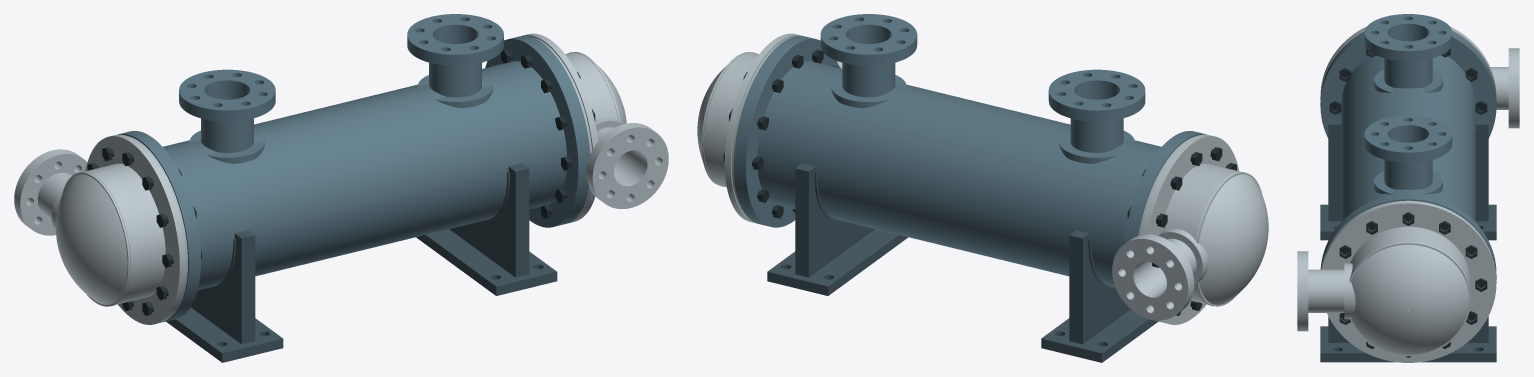
Rendered from replicad.heat-exchanger.glb.
3 renders of one model, left to right at view 1: azimuth 30°, elevation 25°; view 2: azimuth 150°, elevation 25°; view 3: azimuth 270°, elevation 25°, orthographic. The views are drawn at different scales.
Parts seen in each view (by area): view 1: Pressure Shell, Channel Heads, Support Saddles, Shell Flange Fasteners, Tube Sheets; view 2: Pressure Shell, Channel Heads, Support Saddles, Shell Flange Fasteners, Tube Sheets; view 3: Pressure Shell, Channel Heads, Support Saddles, Shell Flange Fasteners.
Boxes of the visible parts, <box> form: Pressure Shell: <box>118,14,590,321</box>; Channel Heads: <box>14,33,668,324</box>; Support Saddles: <box>166,163,557,362</box>; Shell Flange Fasteners: <box>87,49,595,315</box>; Tube Sheets: <box>129,38,592,315</box>; Pressure Shell: <box>734,14,1206,322</box>; Channel Heads: <box>697,33,1268,324</box>; Support Saddles: <box>767,163,1158,362</box>; Shell Flange Fasteners: <box>723,50,1236,315</box>; Tube Sheets: <box>731,38,1194,235</box>; Pressure Shell: <box>1320,14,1496,279</box>; Channel Heads: <box>1297,26,1519,362</box>; Support Saddles: <box>1320,118,1496,362</box>; Shell Flange Fasteners: <box>1329,48,1487,357</box>.
Bounding box in the file's own units: 0.72 × 0.282 × 0.278.
